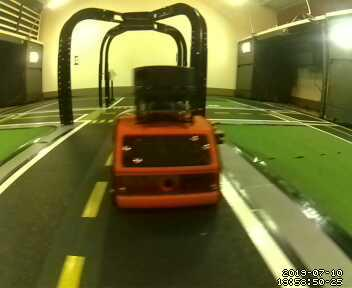pheeno: (109, 63, 225, 212)
